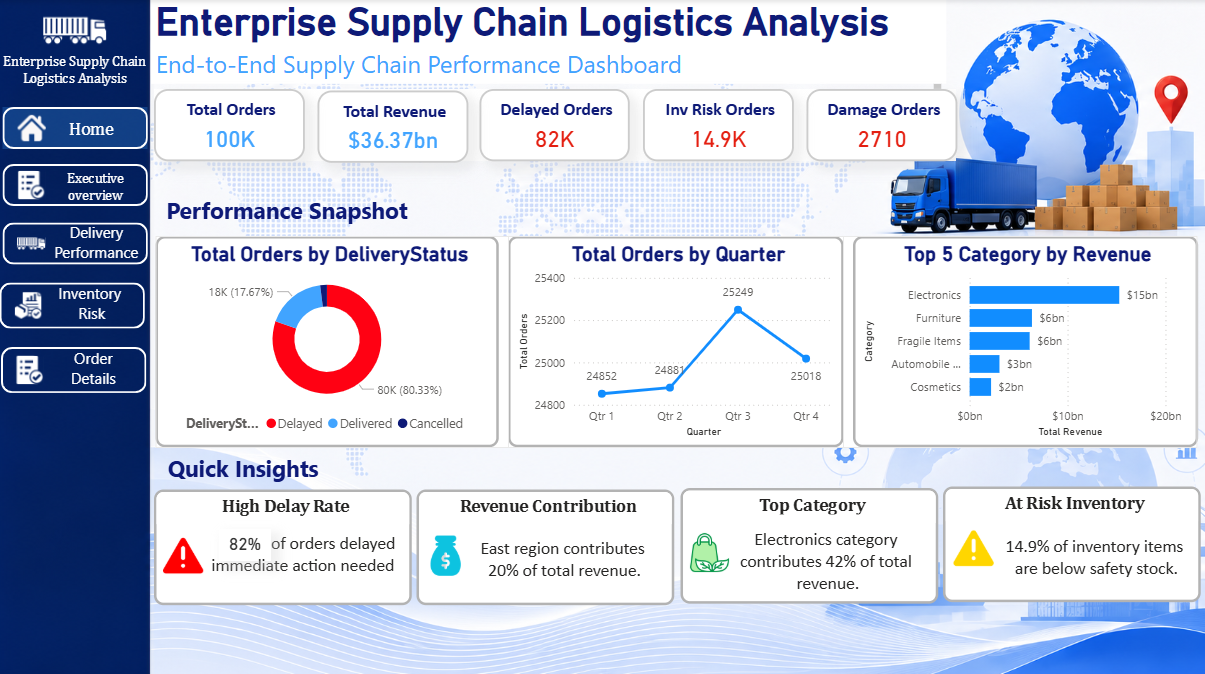

The dashboard page shown, as its layout file describes it:
{"tool":"powerbi","page":{"name":"Home","canvas":[1280,720],"ordinal":0},"visuals":[{"type":"group","id":"g1","title":"SideBar","box":[0,0,173.5,427.4],"z":0},{"type":"image","box":[0,0,162.2,66.8],"z":0,"group":"g1"},{"type":"actionButton","box":[4.8,114.5,154.3,44.5],"z":0,"group":"g4"},{"type":"actionButton","box":[4.8,175,154.3,44.5],"z":0,"group":"g3"},{"type":"actionButton","box":[4,237,154.3,44.5],"z":0,"group":"g6"},{"type":"actionButton","box":[2.3,300.9,154.3,49],"z":0,"group":"g7"},{"type":"actionButton","box":[3.3,368.1,154.3,49],"z":0,"group":"g9"},{"type":"shape","title":"At Risk Inventory","box":[1002.3,516.9,273.6,122.5],"z":0,"group":"g12"},{"type":"shape","title":"Top Category","box":[724.4,518.5,273.6,122.5],"z":0,"group":"g11"},{"type":"shape","title":"High Delay Rate","box":[166.1,520.1,273.6,122.5],"z":0,"group":"g8"},{"type":"shape","title":"Revenue Contribution","box":[444,520.1,273.6,122.5],"z":0,"group":"g10"},{"type":"textbox","title":"Enterprise Supply Chain Logistics Analysis","box":[162.2,0,843,100.2],"z":1000},{"type":"textbox","box":[0,50.9,162.2,50.9],"z":1000,"group":"g1"},{"type":"card","title":"Damage Orders","fields":{"Values":["Measure.Damaged Orders"]},"box":[856.6,95.1,159.7,76.6],"z":1000,"group":"g5"},{"type":"textbox","box":[60.5,120.9,76.3,33.4],"z":1000,"group":"g4"},{"type":"textbox","box":[54.1,175,98.6,55.7],"z":1000,"group":"g3"},{"type":"textbox","box":[34.8,231.2,138.7,57.8],"z":1000,"group":"g6"},{"type":"textbox","box":[31.2,296.6,138.7,63.6],"z":1000,"group":"g7"},{"type":"textbox","box":[32.2,363.8,138.7,63.6],"z":1000,"group":"g9"},{"type":"group","id":"g2","title":"Group 7","box":[221.8,559.9,211.6,63.6],"z":1000,"group":"g8"},{"type":"textbox","box":[221.8,559.9,211.6,63.6],"z":1000,"group":"g2"},{"type":"group","id":"g3","title":"Group 1","box":[4.8,175,154.3,55.7],"z":2000,"group":"g1"},{"type":"textbox","box":[175,475.6,264,44.5],"z":2000},{"type":"image","box":[1012.7,550.3,42.9,63.6],"z":2000,"group":"g12"},{"type":"image","box":[733.9,555.1,42.9,63.6],"z":2000,"group":"g11"},{"type":"image","box":[175.6,558.3,42.9,63.6],"z":2000,"group":"g8"},{"type":"image","box":[453.5,558.3,42.9,63.6],"z":2000,"group":"g10"},{"type":"card","title":"Delayed Orders","fields":{"Values":["Measure.Delayed Orders"]},"box":[511.3,95.8,159.1,76.4],"z":3000,"group":"g5"},{"type":"group","id":"g4","title":"Group 2","box":[4.8,114.5,154.3,44.5],"z":3000,"group":"g1"},{"type":"textbox","box":[173.4,202,321.3,44.5],"z":3000},{"type":"group","id":"g5","title":"Group 6","box":[165.4,95.1,851,76.3],"z":4000},{"type":"card","title":"Total Revenue","fields":{"Values":["Measure.Total Revenue"]},"box":[338.4,95.9,159.7,76.6],"z":4000,"group":"g5"},{"type":"group","id":"g6","title":"Group 3","box":[4,231.2,169.5,57.8],"z":4000,"group":"g1"},{"type":"donutChart","fields":{"Category":["Fact_Orders.DeliveryStatus"],"Y":["Measure.Total Orders"]},"box":[167,250.7,364.2,224.3],"z":4000,"group":"g13"},{"type":"card","title":"Inv Risk Orders","fields":{"Values":["Measure.At Risk Inventory"]},"box":[683.7,95.1,159.7,76.6],"z":5000,"group":"g5"},{"type":"lineChart","fields":{"Category":["Fact_Orders.OrderDate.Variation.Date Hierarchy.Quarter"],"Y":["Measure.Total Orders"]},"box":[540.8,250.7,356.3,224.3],"z":5000,"group":"g13"},{"type":"group","id":"g7","title":"Group 4","box":[2.3,296.6,167.5,63.6],"z":5000,"group":"g1"},{"type":"group","id":"g8","title":"Group 8","box":[166.1,520.1,273.6,122.5],"z":5000},{"type":"clusteredBarChart","title":"Top 5 Category by Revenue","fields":{"Y":["Measure.Total Revenue"],"Category":["Dim_Product.Category"]},"box":[906.6,250.7,365.8,224.3],"z":6000,"group":"g13"},{"type":"group","id":"g9","title":"Group 5","box":[3.3,363.8,167.5,63.6],"z":6000,"group":"g1"},{"type":"group","id":"g10","title":"Group 8","box":[444,520.1,273.6,122.5],"z":6000},{"type":"card","title":"Total Orders","fields":{"Values":["Measure.Total Orders"]},"box":[165.4,95.1,159.7,76.6],"z":7000,"group":"g5"},{"type":"group","id":"g11","title":"Group 8","box":[724.4,518.5,273.6,122.5],"z":7000},{"type":"card","title":"Total Orders","fields":{"Values":["Measure.Delay %"]},"box":[234.5,561.5,55.7,35],"z":7000,"group":"g2"},{"type":"group","id":"g12","title":"Group 8","box":[1002.3,516.9,273.6,122.5],"z":8000},{"type":"group","id":"g13","title":"Group 9","box":[167,250.7,1105.5,224.3],"z":9000},{"type":"card","fields":{"Values":["Measure.Top Category Insight"]},"box":[776.2,547.2,206.8,89.1],"z":10008},{"type":"card","fields":{"Values":["Measure.Top Revenue Region Detail"]},"box":[504.4,556.7,192.5,71.6],"z":10008,"group":"g10"},{"type":"card","fields":{"Values":["Measure.Inventory Risk Insight"]},"box":[1060.9,545.6,206.8,89.1],"z":10009}]}

Visuals, with their boxes in screenshot pixels (x1, y1, x2, y2), scaled from the page's 1280x720 canvas onto the 1205x674 screenshot:
"SideBar" group: box(0, 0, 163, 400)
image: box(0, 0, 153, 63)
actionButton: box(5, 107, 150, 149)
actionButton: box(5, 164, 150, 205)
actionButton: box(4, 222, 149, 264)
actionButton: box(2, 282, 147, 328)
actionButton: box(3, 345, 148, 390)
"At Risk Inventory" shape: box(944, 484, 1201, 599)
"Top Category" shape: box(682, 485, 940, 600)
"High Delay Rate" shape: box(156, 487, 414, 602)
"Revenue Contribution" shape: box(418, 487, 676, 602)
"Enterprise Supply Chain Logistics Analysis" textbox: box(153, 0, 946, 94)
textbox: box(0, 48, 153, 95)
"Damage Orders" card: box(806, 89, 957, 161)
textbox: box(57, 113, 129, 144)
textbox: box(51, 164, 144, 216)
textbox: box(33, 216, 163, 271)
textbox: box(29, 278, 160, 337)
textbox: box(30, 341, 161, 400)
"Group 7" group: box(209, 524, 408, 584)
textbox: box(209, 524, 408, 584)
"Group 1" group: box(5, 164, 150, 216)
textbox: box(165, 445, 413, 487)
image: box(953, 515, 994, 575)
image: box(691, 520, 731, 579)
image: box(165, 523, 206, 582)
image: box(427, 523, 467, 582)
"Delayed Orders" card: box(481, 90, 631, 161)
"Group 2" group: box(5, 107, 150, 149)
textbox: box(163, 189, 466, 231)
"Group 6" group: box(156, 89, 957, 160)
"Total Revenue" card: box(319, 90, 469, 161)
"Group 3" group: box(4, 216, 163, 271)
donutChart - Fact_Orders.DeliveryStatus x Measure.Total Orders: box(157, 235, 500, 445)
"Inv Risk Orders" card: box(644, 89, 794, 161)
lineChart - Fact_Orders.OrderDate.Variation.Date Hierarchy.Quarter x Measure.Total Orders: box(509, 235, 845, 445)
"Group 4" group: box(2, 278, 160, 337)
"Group 8" group: box(156, 487, 414, 602)
"Top 5 Category by Revenue" clusteredBarChart: box(853, 235, 1198, 445)
"Group 5" group: box(3, 341, 161, 400)
"Group 8" group: box(418, 487, 676, 602)
"Total Orders" card: box(156, 89, 306, 161)
"Group 8" group: box(682, 485, 940, 600)
"Total Orders" card: box(221, 526, 273, 558)
"Group 8" group: box(944, 484, 1201, 599)
"Group 9" group: box(157, 235, 1198, 445)
card - Measure.Top Category Insight: box(731, 512, 925, 596)
card - Measure.Top Revenue Region Detail: box(475, 521, 656, 588)
card - Measure.Inventory Risk Insight: box(999, 511, 1193, 594)
